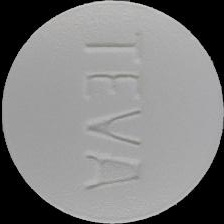0093-3100: (0, 0, 224, 224)
